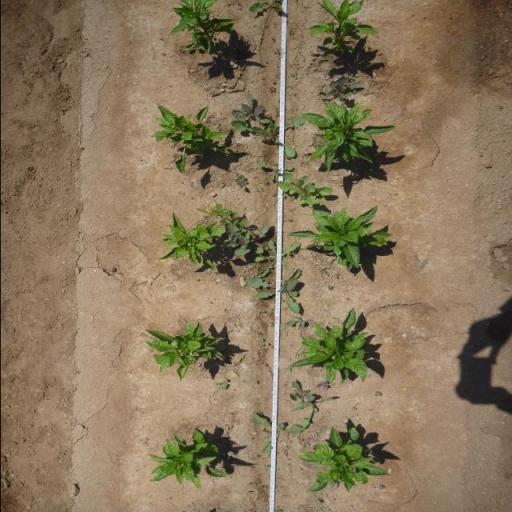plant: (295, 425, 392, 495), (288, 307, 373, 386), (304, 102, 398, 173), (149, 99, 230, 176), (302, 206, 394, 268), (144, 428, 234, 490), (142, 319, 223, 382), (306, 0, 378, 60), (168, 0, 237, 58), (161, 214, 224, 274)
weed: (230, 117, 304, 158), (241, 271, 306, 313), (248, 412, 302, 455), (277, 170, 334, 208), (254, 240, 302, 280), (222, 222, 269, 256), (289, 398, 337, 431), (315, 70, 364, 100), (198, 200, 254, 225), (230, 92, 271, 124), (254, 158, 294, 182), (288, 379, 314, 403), (249, 0, 282, 16), (284, 315, 306, 328), (233, 174, 249, 190), (213, 378, 229, 390), (313, 381, 329, 391), (258, 338, 270, 347), (289, 70, 298, 79), (270, 47, 280, 54), (327, 481, 338, 487), (260, 428, 271, 434), (322, 270, 330, 278), (267, 86, 275, 94), (373, 390, 382, 397), (268, 319, 274, 329), (260, 347, 268, 354), (262, 301, 269, 308), (262, 484, 270, 490), (343, 296, 351, 302), (269, 78, 277, 84), (269, 192, 277, 198), (315, 500, 322, 506), (349, 406, 357, 411), (286, 30, 294, 35), (264, 464, 270, 470), (378, 485, 384, 490), (268, 311, 273, 317), (326, 285, 332, 290), (334, 273, 339, 279), (255, 332, 262, 336), (284, 368, 290, 372), (260, 310, 267, 313), (287, 220, 293, 222)
